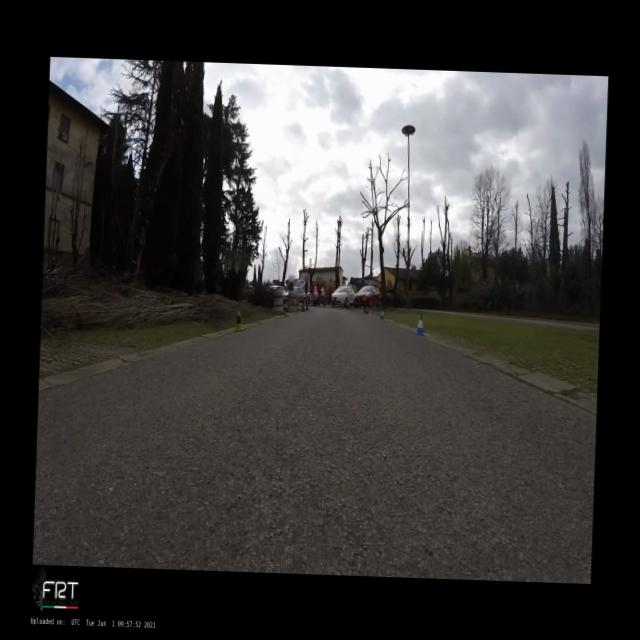blue_cone: (414, 312, 426, 334), (378, 309, 384, 319)
unknown_cone: (301, 303, 305, 311), (365, 305, 368, 314), (363, 306, 365, 312)
yellow_cone: (233, 309, 246, 331), (284, 305, 290, 317)
